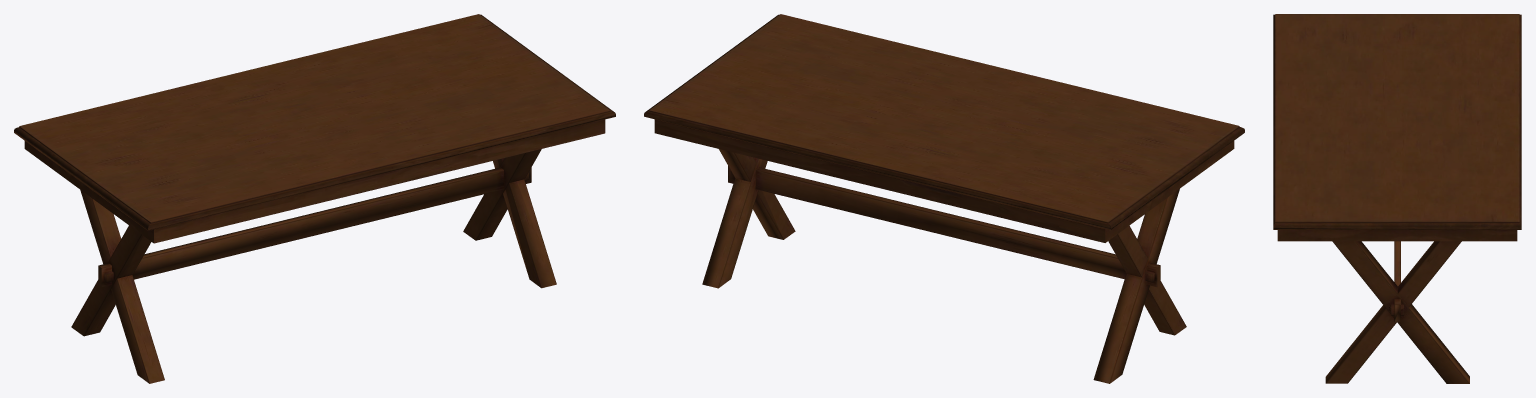
Rendered from coffee_table_abo_B07DBFFG9Z.glb.
The picture shows the model from 3 angles, left to right: view 1: azimuth 30°, elevation 25°; view 2: azimuth 150°, elevation 25°; view 3: azimuth 270°, elevation 25°; orthographic projection. The views are drawn at different scales.
Visible parts, largest first — view 1: RootNode; view 2: RootNode; view 3: RootNode.
Boxes of the visible parts, bbox=[...] form: RootNode: bbox=[14, 14, 615, 383]; RootNode: bbox=[644, 14, 1244, 383]; RootNode: bbox=[1273, 14, 1521, 383].
Size of the model in its own units: 1.2 by 0.4591 by 0.5941.
1 material, 1 textured.
